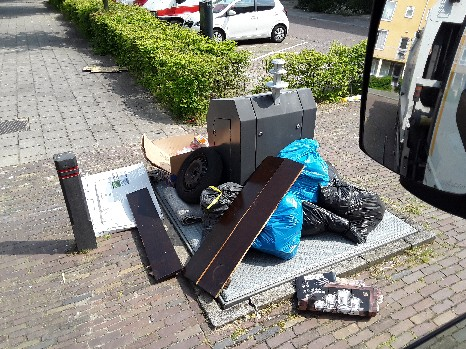Container: (216, 79, 326, 164)
Rest: (186, 172, 298, 273), (106, 169, 190, 278), (153, 137, 220, 205), (305, 176, 385, 219), (276, 142, 357, 184), (307, 276, 376, 319)
